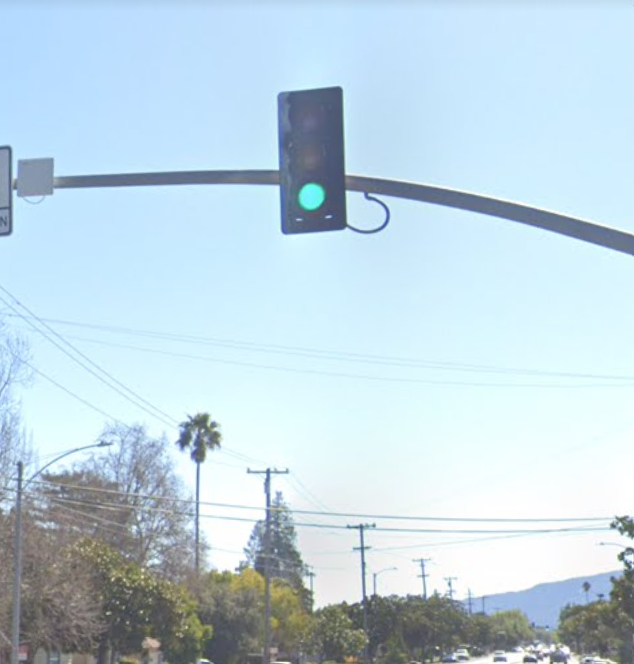green_light: (282, 93, 341, 223)
